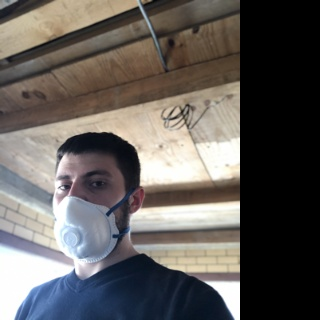with_mask: (52, 164, 124, 264)
